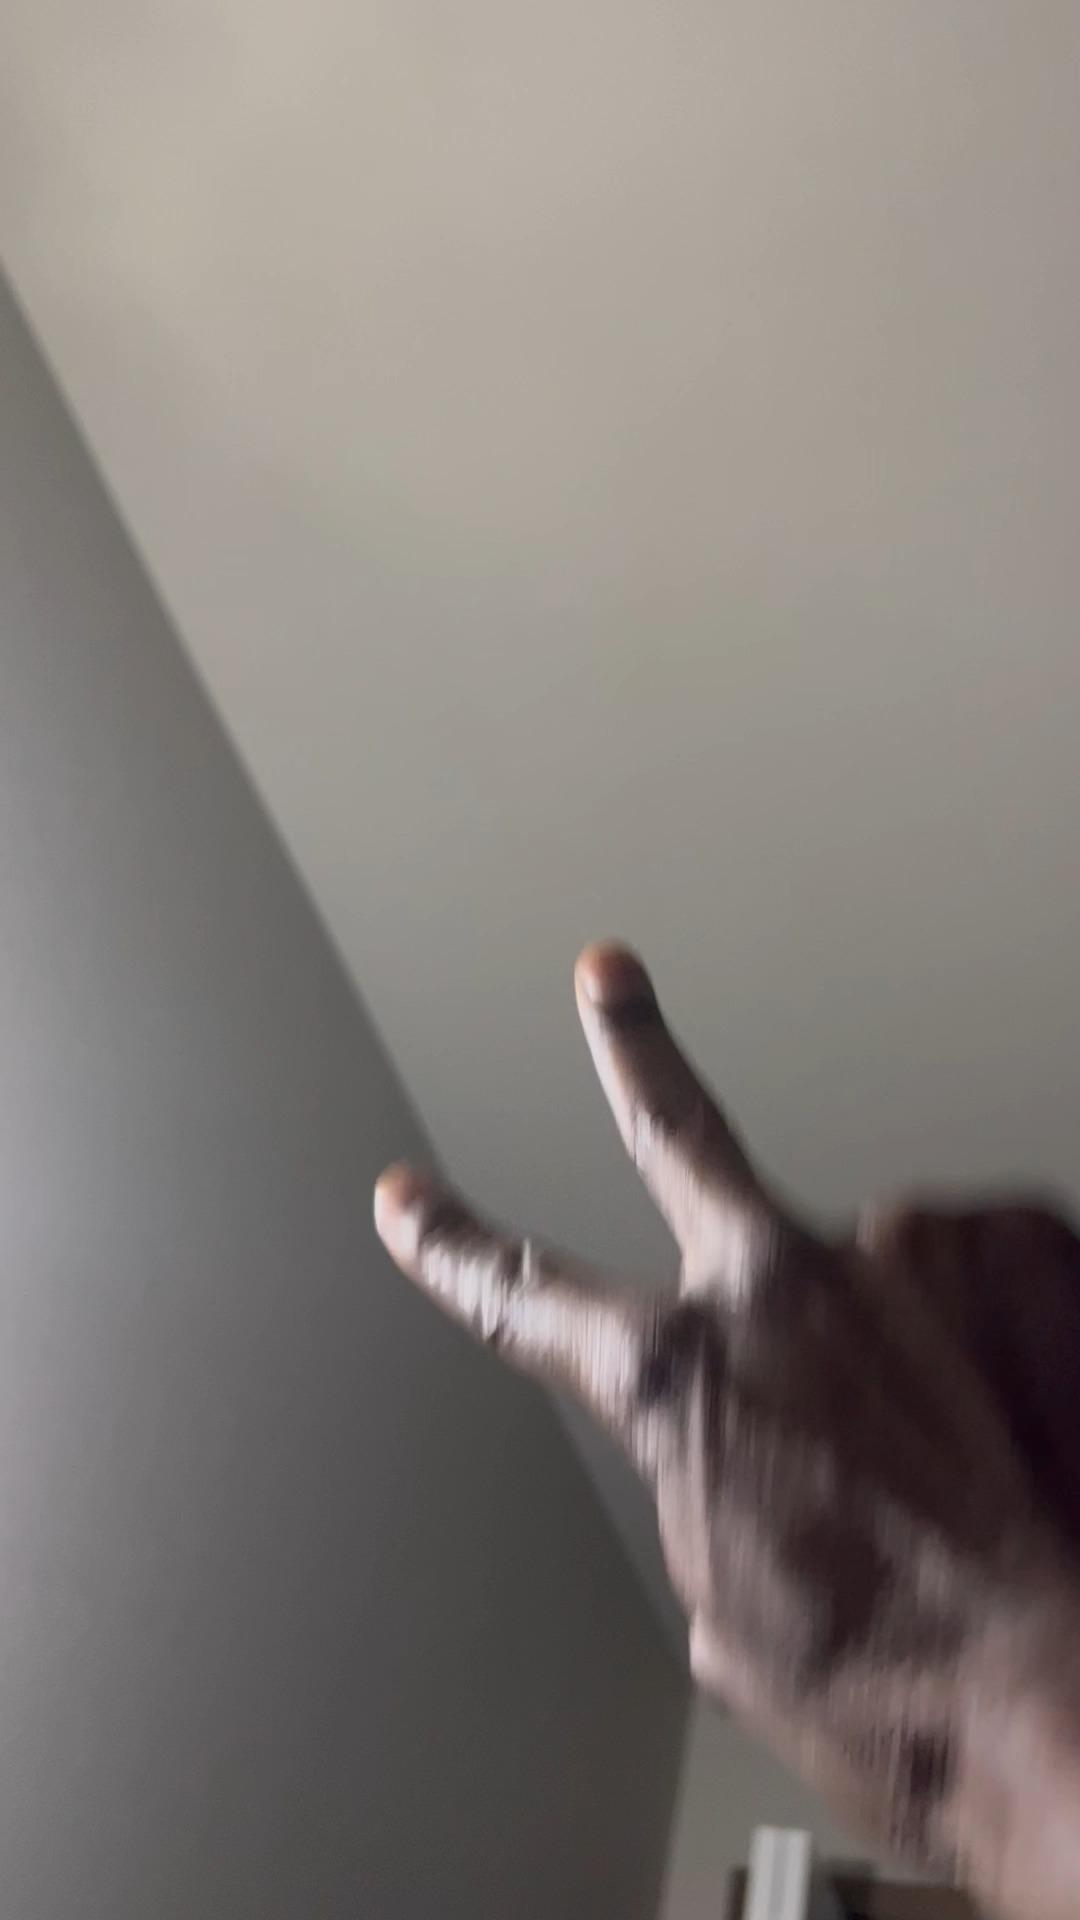Scissors: (353, 942, 1080, 1920)
